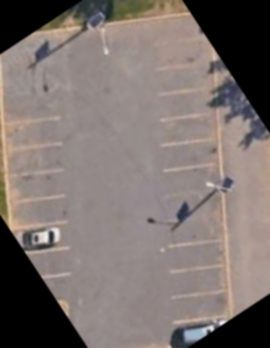parkingspot: (145, 10, 235, 348), (0, 112, 81, 305)
